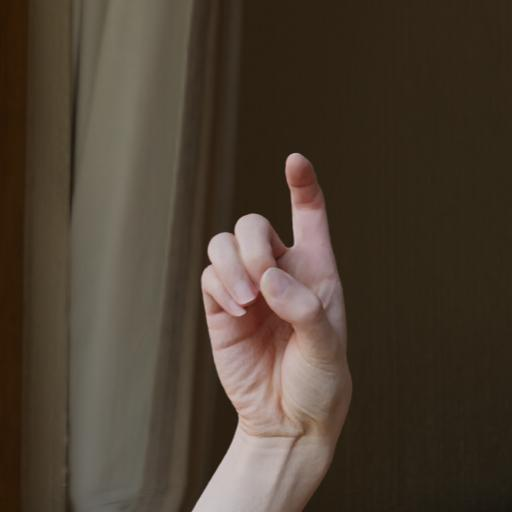X: (136, 134, 379, 512)
